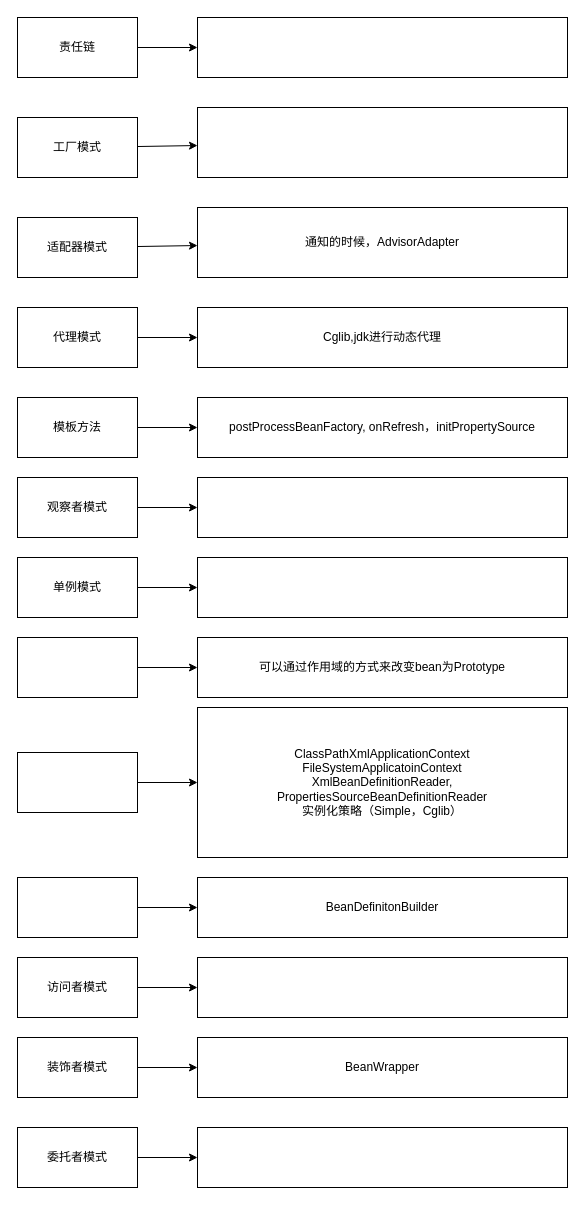
This 585x1205 diagram has some shape labels left out. The centre of each missing label's shape, as x and y in pixels:
BeanDefinitionParserDelagate: pixel 382 1157
BeanDefinitonVister: pixel 382 987
BeanFactory,PrxoyFactory: pixel 382 142
Spring中所有的bean对象默认都是单例的: pixel 382 587
使用AOP在进行通知调用的时候，会使用: pixel 382 47
原型模式: pixel 77 667
构建者模式: pixel 77 907
监听器，监听事件，广播器（多播器）: pixel 382 507
策略模式: pixel 77 782
